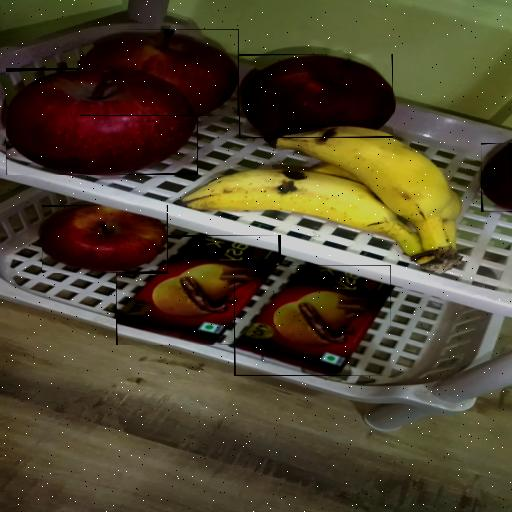Apple: (6, 68, 198, 175), (80, 29, 239, 116), (239, 54, 393, 138), (42, 205, 168, 273), (481, 143, 512, 212)
Choco Fills: (116, 235, 281, 345), (234, 265, 391, 376)
